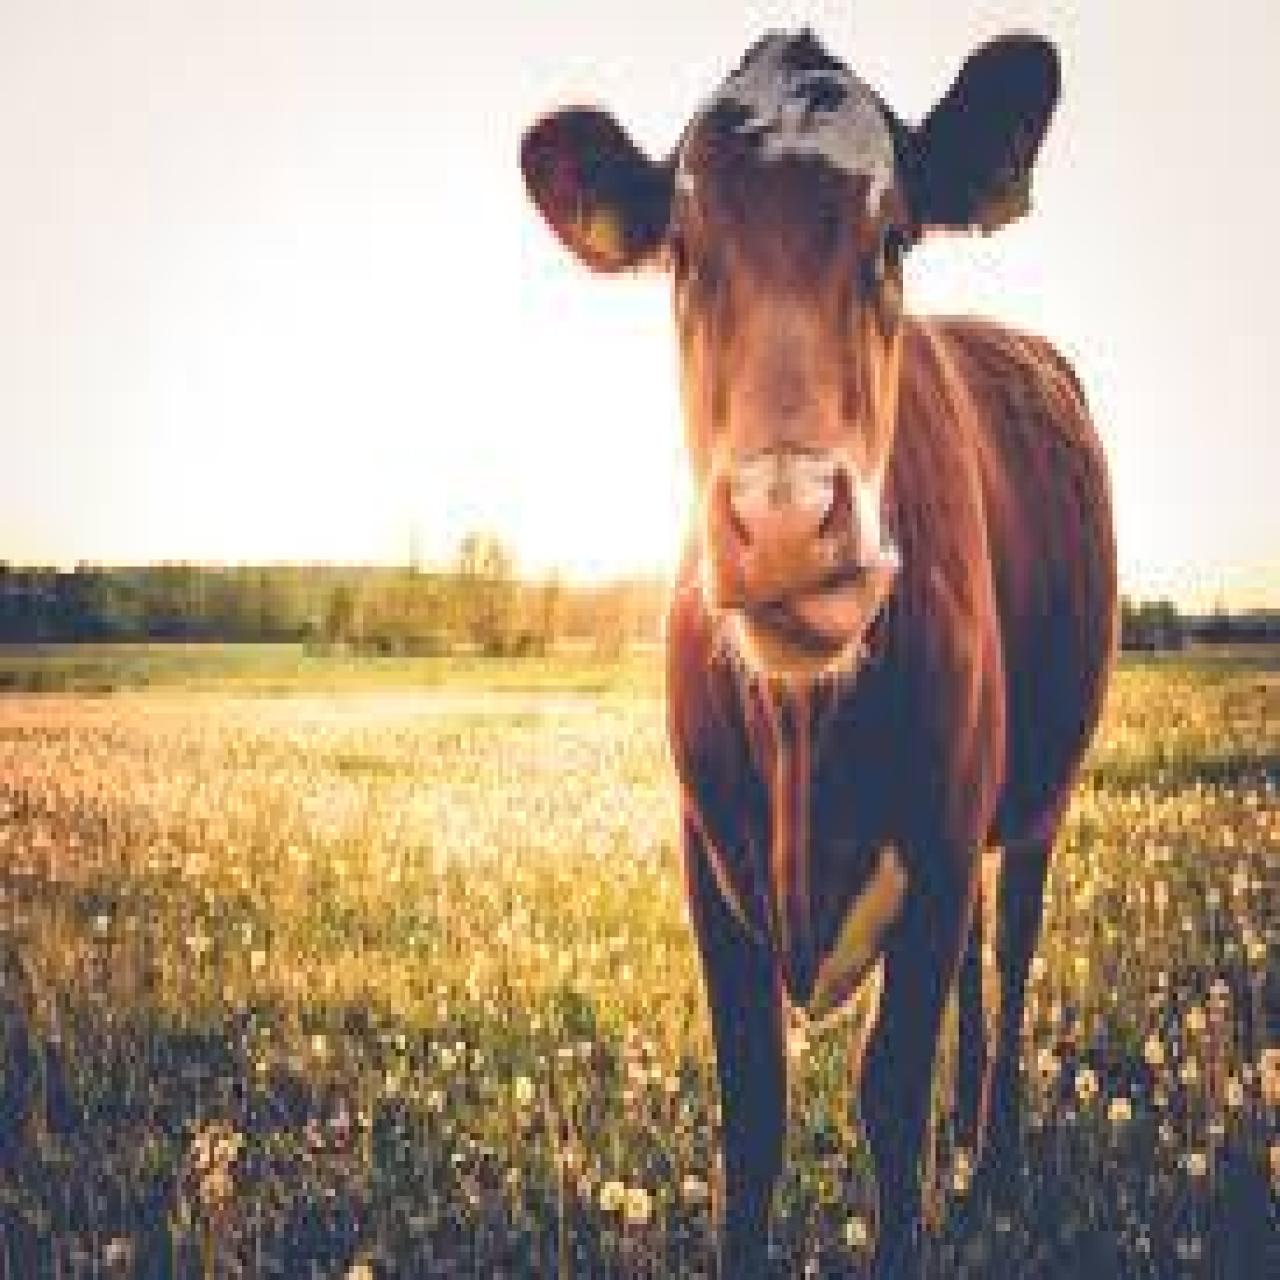cow: (519, 35, 1119, 1280)
